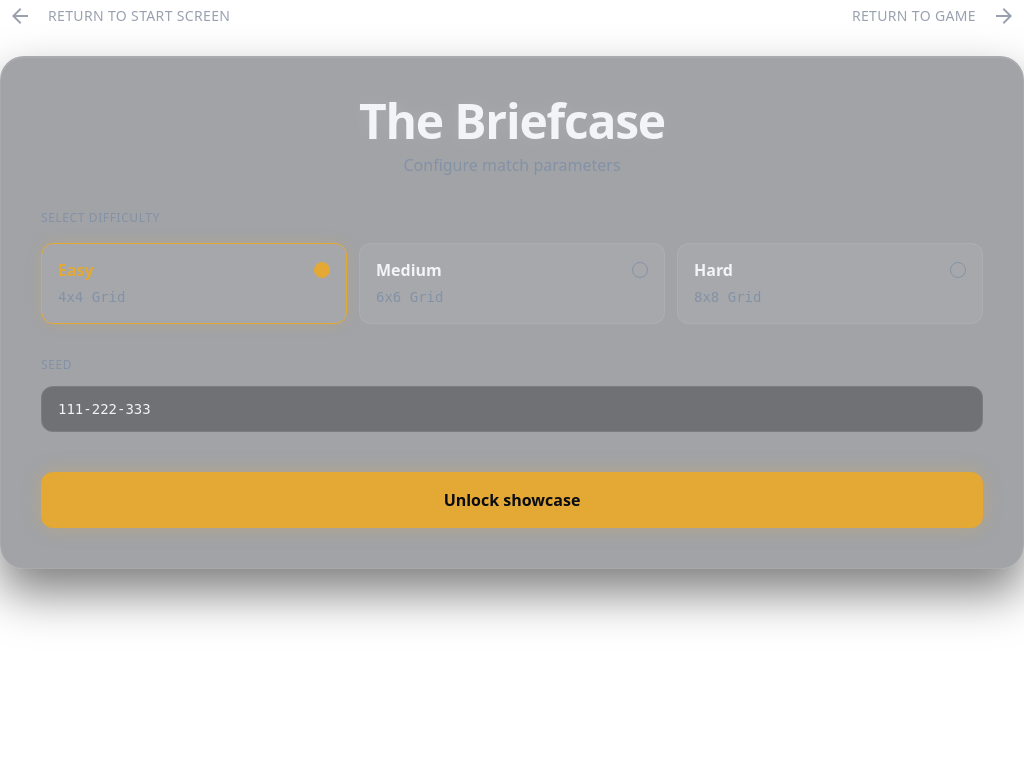
Scenario: BriefcaseView unlock abandon confirm › shows same-settings copy when Unlock matches in-progress difficulty and seed
Click the button with test id "briefcase-unlock-showcase": click(512, 500) x1=41 y1=472 x2=983 y2=528
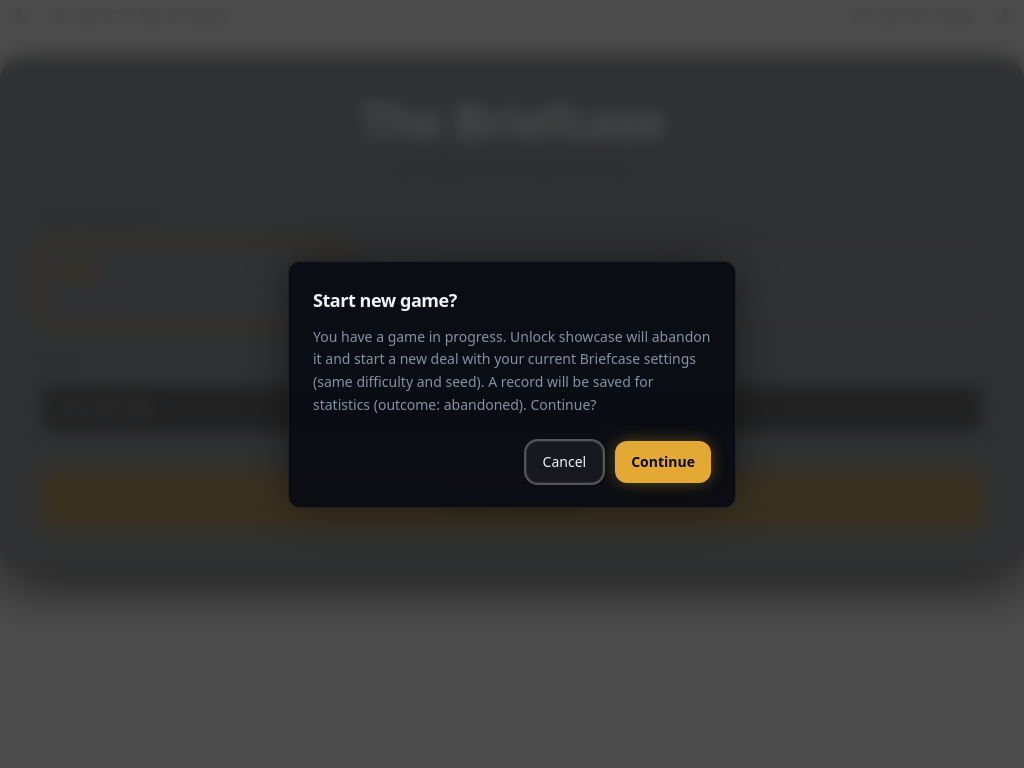
Expected: the text with test id "memo-confirm-message" shows "You have a game in progress. Unlock show", x1=313 y1=326 x2=710 y2=414
